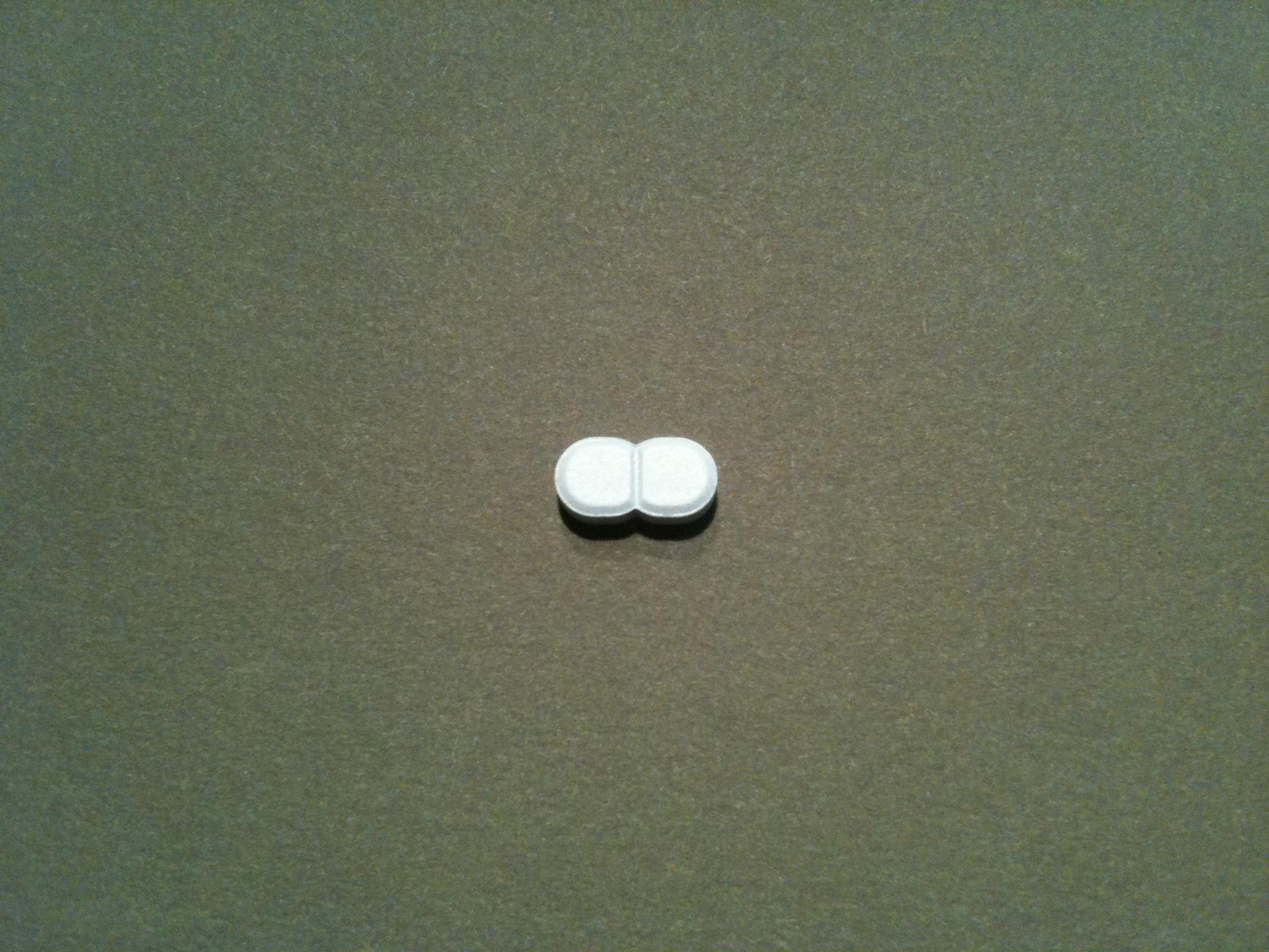Pill: (502, 411, 756, 556)
